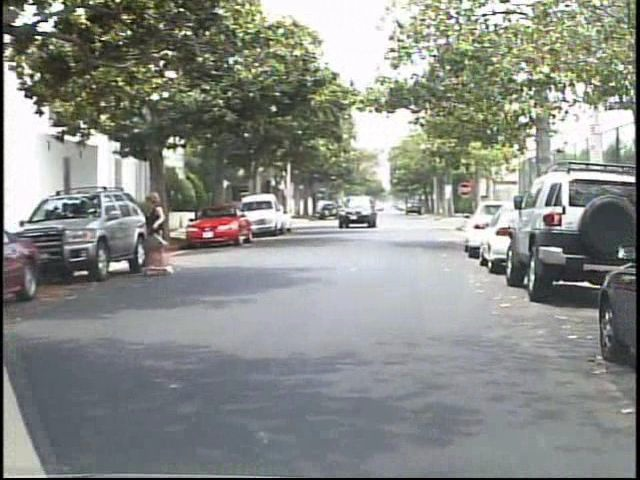person: (147, 188, 183, 279)
